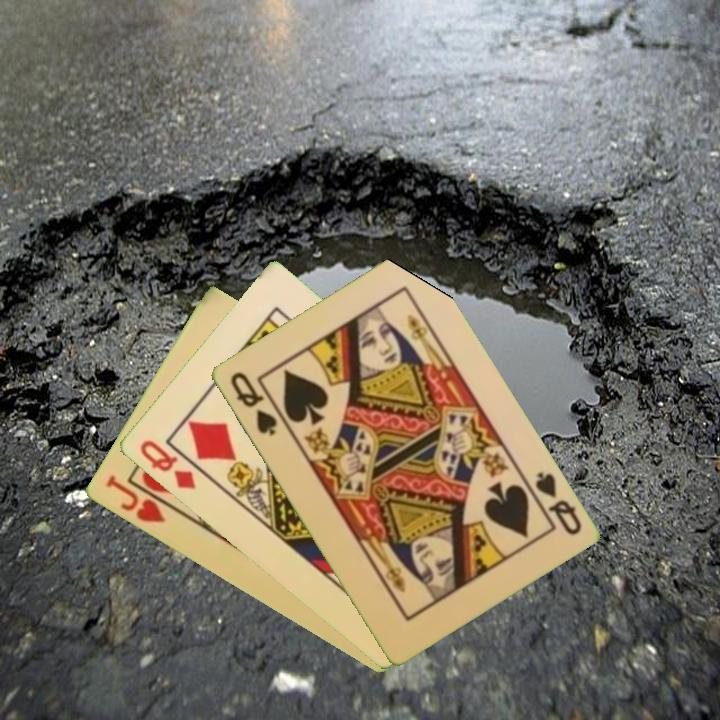Jh: (102, 471, 180, 526)
Qd: (135, 436, 199, 493)
Qs: (226, 368, 280, 439), (531, 468, 584, 538)
